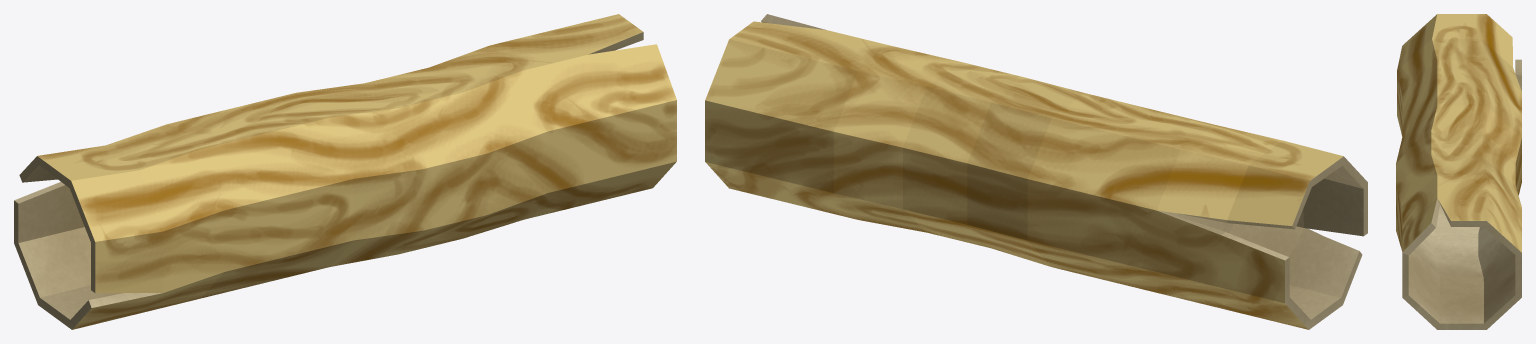
Rendered from Long Log.fbx.
3 renders of one model, left to right at view 1: azimuth 30°, elevation 25°; view 2: azimuth 150°, elevation 25°; view 3: azimuth 270°, elevation 25°, orthographic. The views are drawn at different scales.
Visible parts, largest first — view 1: Long Log; view 2: Long Log; view 3: Long Log.
Part boxes in pixels (bbox=[...]): Long Log: bbox=[14, 14, 676, 329]; Long Log: bbox=[705, 14, 1367, 329]; Long Log: bbox=[1396, 14, 1521, 329].
Bounding box in the file's own units: 4.24 × 1.08 × 1.03.
Materials: 2 (2 with a texture image).
